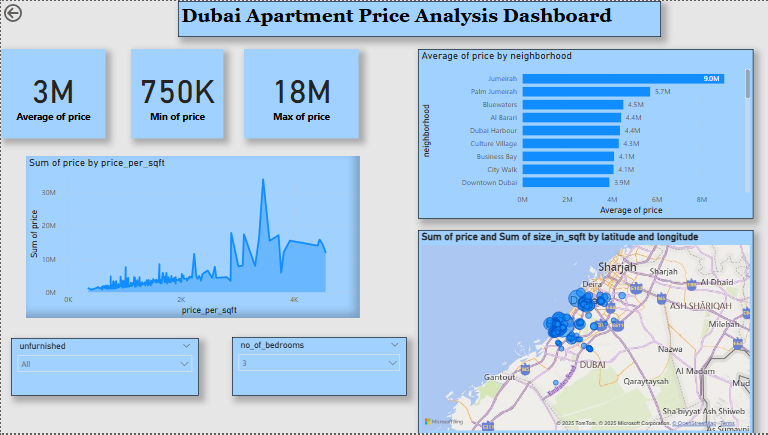

Layout of this report page (visuals, bound fields, positions):
{"tool":"powerbi","page":{"name":"Page 1","canvas":[1280,720],"ordinal":0},"visuals":[{"type":"card","fields":{"Values":["Avg(properties_data.price)"]},"box":[0,80,174.3,148.6],"z":0},{"type":"card","fields":{"Values":["Min(properties_data.price)"]},"box":[217.1,80,154.3,148.6],"z":1000},{"type":"card","fields":{"Values":["Max(properties_data.price)"]},"box":[405.7,80,191.4,148.6],"z":2000},{"type":"clusteredBarChart","fields":{"Category":["properties_data.neighborhood"],"Y":["Avg(properties_data.price)"]},"box":[694.4,80.5,559.5,283],"z":3000},{"type":"stackedAreaChart","fields":{"Category":["properties_data.price_per_sqft"],"Y":["Sum(properties_data.price)"]},"box":[41.4,258.6,555.7,270],"z":4000},{"type":"map","fields":{"Y":["properties_data.latitude"],"Size":["Sum(properties_data.price)"],"X":["properties_data.longitude"]},"box":[694.4,381,559.5,339.6],"z":5000},{"type":"slicer","fields":{"Values":["properties_data.no_of_bedrooms"]},"box":[385.1,559.6,291.5,97.9],"z":6000},{"type":"actionButton","box":[0,0,100,40],"z":7000},{"type":"slicer","fields":{"Values":["properties_data.unfurnished"]},"box":[17,561.7,312.8,95.7],"z":8000},{"type":"textbox","box":[295,0,805,60],"z":9000}]}

Visuals, with their boxes in screenshot pixels (x1, y1, x2, y2), scaled from the page's 1280x720 canvas onto the 768x435 screenshot:
card - Avg(properties_data.price): [x1=0, y1=48, x2=105, y2=138]
card - Min(properties_data.price): [x1=130, y1=48, x2=223, y2=138]
card - Max(properties_data.price): [x1=243, y1=48, x2=358, y2=138]
clusteredBarChart - properties_data.neighborhood x Avg(properties_data.price): [x1=417, y1=49, x2=752, y2=220]
stackedAreaChart - properties_data.price_per_sqft x Sum(properties_data.price): [x1=25, y1=156, x2=358, y2=319]
map - properties_data.latitude x Sum(properties_data.price): [x1=417, y1=230, x2=752, y2=434]
slicer - properties_data.no_of_bedrooms: [x1=231, y1=338, x2=406, y2=397]
actionButton: [x1=0, y1=0, x2=60, y2=24]
slicer - properties_data.unfurnished: [x1=10, y1=339, x2=198, y2=397]
textbox: [x1=177, y1=0, x2=660, y2=36]
